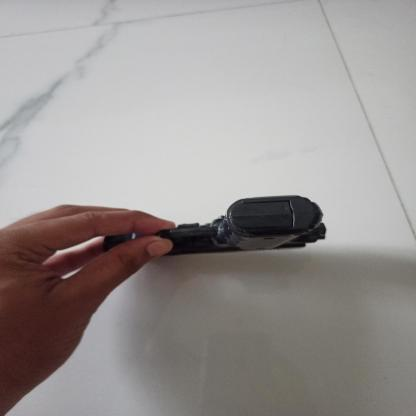handgun: (99, 195, 324, 259)
